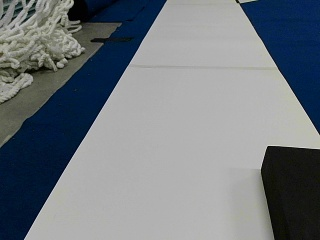block: (262, 146, 318, 237)
